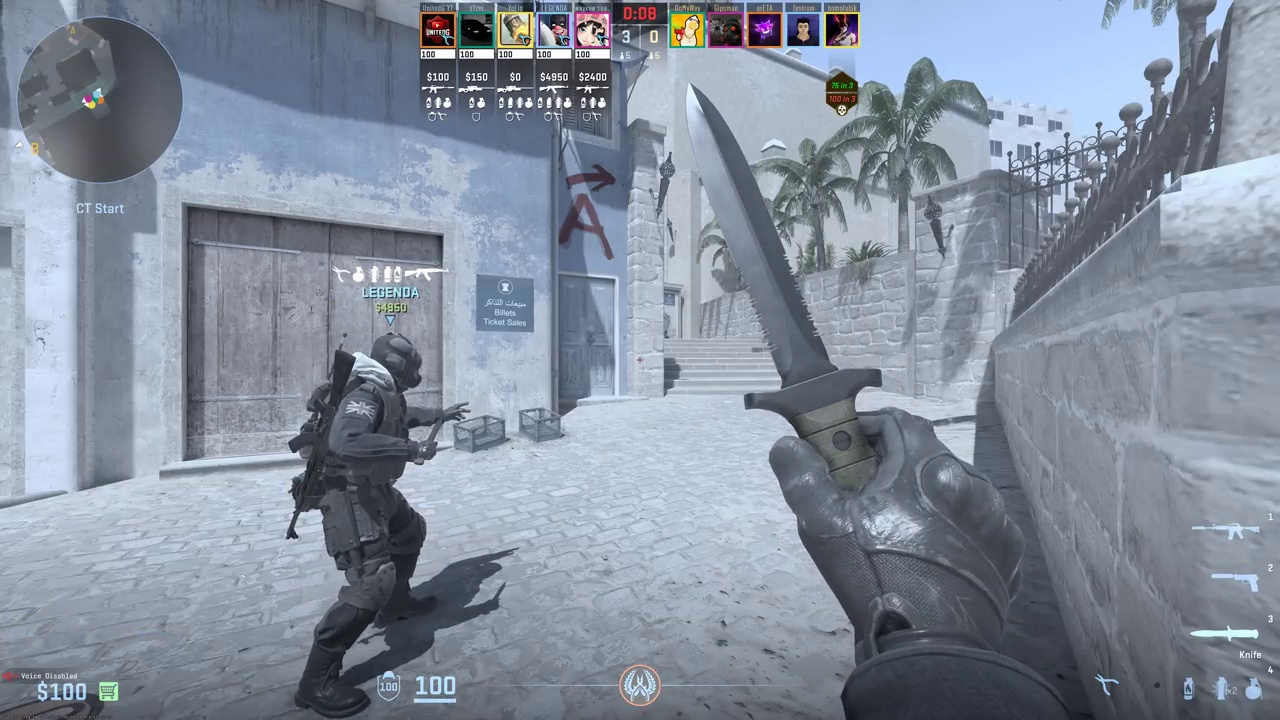CT: (293, 332, 441, 709)
